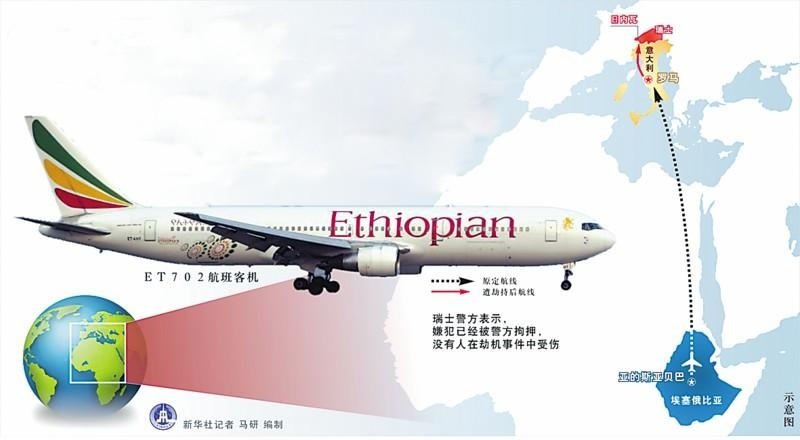airplane: (12, 128, 629, 287)
